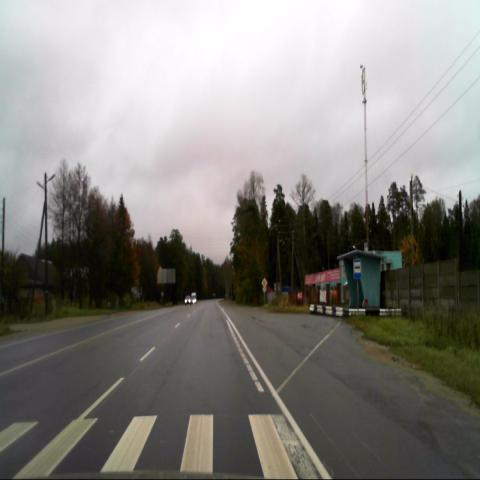5_16: (353, 258, 362, 278)
